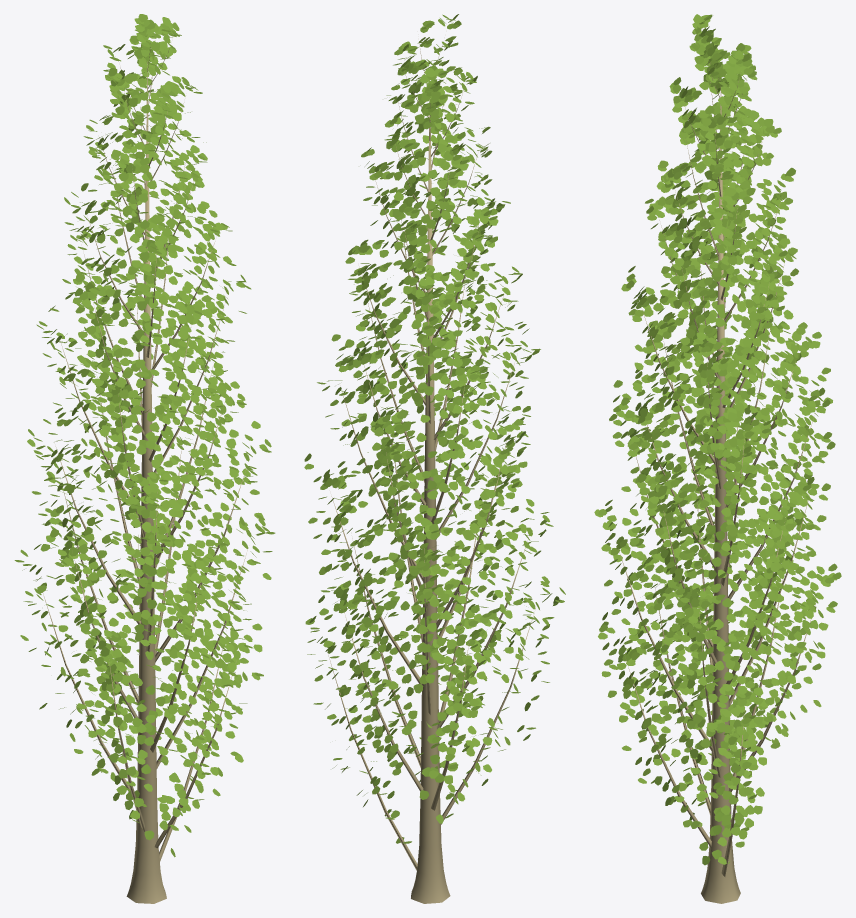
Rendered from real-tree.glb.
3 views of the same model, side by side, from view 1: azimuth 30°, elevation 25°; view 2: azimuth 150°, elevation 25°; view 3: azimuth 270°, elevation 25° (orthographic).
Visible parts, largest first — view 1: leaves2, stems_1, trunk; view 2: leaves2, stems_1, trunk; view 3: leaves2, stems_1, trunk.
Part boxes in pixels (left/top/right/bottom): leaves2: left=14, top=14, right=275, bottom=857; stems_1: left=42, top=38, right=247, bottom=861; trunk: left=126, top=62, right=166, bottom=903; leaves2: left=304, top=14, right=565, bottom=843; stems_1: left=328, top=41, right=533, bottom=870; trunk: left=411, top=80, right=450, bottom=903; leaves2: left=594, top=14, right=841, bottom=865; stems_1: left=618, top=60, right=815, bottom=876; trunk: left=701, top=79, right=740, bottom=903.
Size of the model in its own units: 7 by 25.85 by 6.62.
